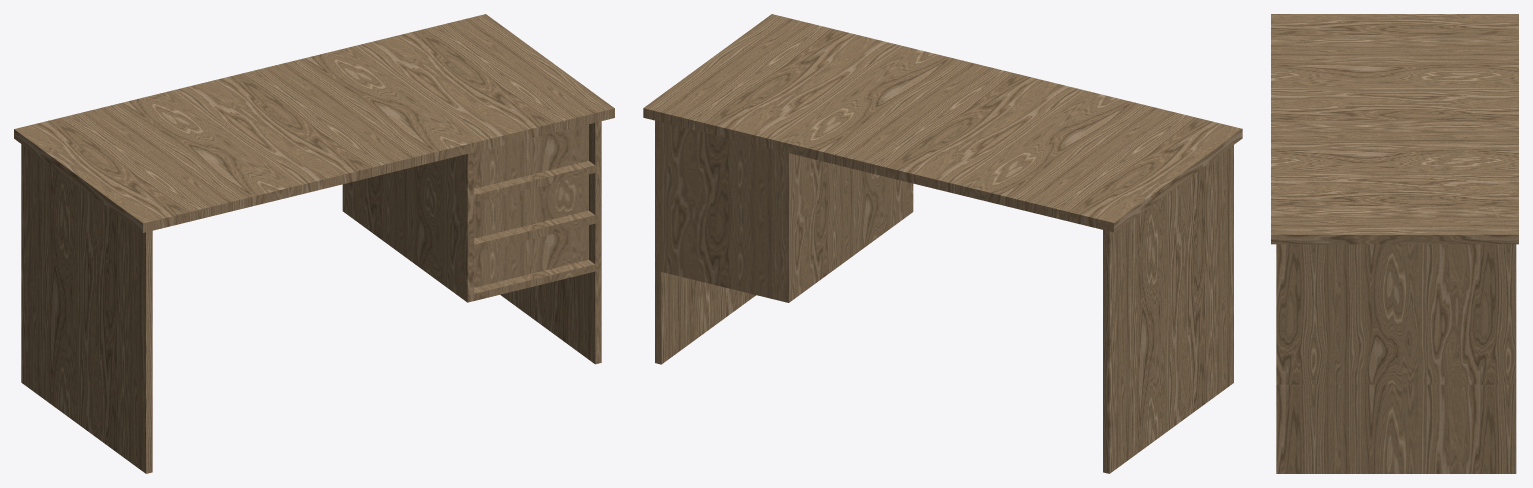
File: desktop_01.glb
3 views of the same model, side by side, from view 1: azimuth 30°, elevation 25°; view 2: azimuth 150°, elevation 25°; view 3: azimuth 270°, elevation 25° (orthographic). The views are drawn at different scales.
Parts seen in each view (by area): view 1: desktop (×3); view 2: desktop (×3); view 3: desktop (×2).
Part boxes in pixels (x1,y1,x2,y2): desktop (×3): (14, 14, 614, 473); desktop (×3): (643, 14, 1242, 473); desktop (×2): (1271, 14, 1518, 473).
Bounding box in the file's own units: 1.62 × 0.8315 × 0.7656.
Materials: 1 (1 with a texture image).
